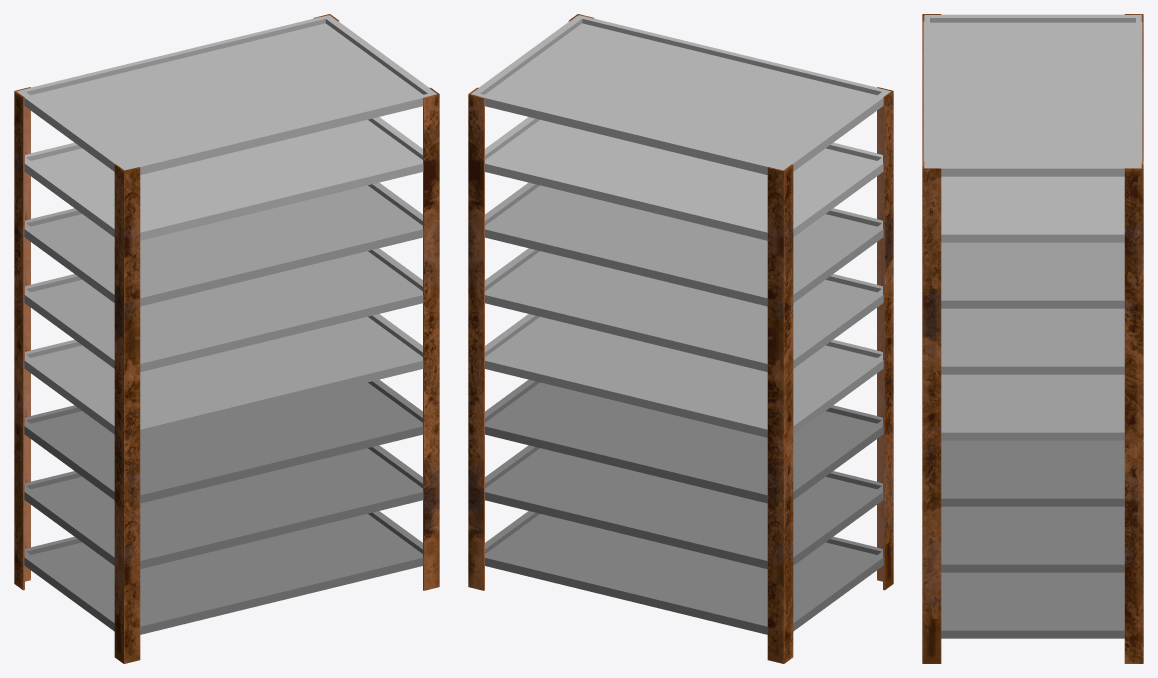
The model's file is C_Shelf.fbx.
3 views of the same model, side by side, from view 1: azimuth 30°, elevation 25°; view 2: azimuth 150°, elevation 25°; view 3: azimuth 270°, elevation 25° (orthographic).
Visible parts, largest first — view 1: Shelf_08, Shelf_01, Shelf_04, Shelf_06, Shelf_03, Shelf_07, Shelf_05, Shelf_02, Edge_02, Edge_03, Edge_01; view 2: Shelf_08, Shelf_01, Shelf_04, Shelf_06, Shelf_03, Shelf_07, Shelf_05, Shelf_02, Edge_01, Edge_04, Edge_02; view 3: Shelf_08, Shelf_01, Shelf_02, Shelf_03, Shelf_04, Shelf_05, Shelf_06, Shelf_07, Edge_03, Edge_04.
Part boxes in pixels (box(x1,y1,x2,y2)): Shelf_08: box(17, 15, 436, 174); Shelf_01: box(24, 511, 423, 634); Shelf_04: box(24, 314, 423, 437); Shelf_06: box(24, 182, 423, 306); Shelf_03: box(24, 379, 423, 503); Shelf_07: box(24, 117, 423, 240); Shelf_05: box(24, 248, 423, 371); Shelf_02: box(24, 445, 423, 568); Edge_02: box(114, 164, 140, 663); Edge_03: box(423, 87, 439, 590); Edge_01: box(14, 87, 30, 590); Shelf_08: box(471, 15, 890, 174); Shelf_01: box(484, 511, 883, 634); Shelf_04: box(484, 314, 883, 437); Shelf_06: box(484, 182, 883, 306); Shelf_03: box(484, 379, 883, 503); Shelf_07: box(484, 117, 883, 240); Shelf_05: box(484, 248, 883, 371); Shelf_02: box(484, 445, 883, 568); Edge_01: box(767, 164, 793, 663); Edge_04: box(468, 87, 484, 590); Edge_02: box(877, 87, 893, 590); Shelf_08: box(923, 14, 1142, 176); Shelf_01: box(941, 572, 1124, 638); Shelf_02: box(941, 506, 1124, 572); Shelf_03: box(941, 440, 1124, 506); Shelf_04: box(941, 374, 1124, 440); Shelf_05: box(941, 308, 1124, 374); Shelf_06: box(941, 242, 1124, 308); Shelf_07: box(941, 176, 1124, 242); Edge_03: box(922, 161, 941, 663); Edge_04: box(1124, 161, 1143, 663).
Size of the model in its own units: 10.08 by 15 by 6.08.
